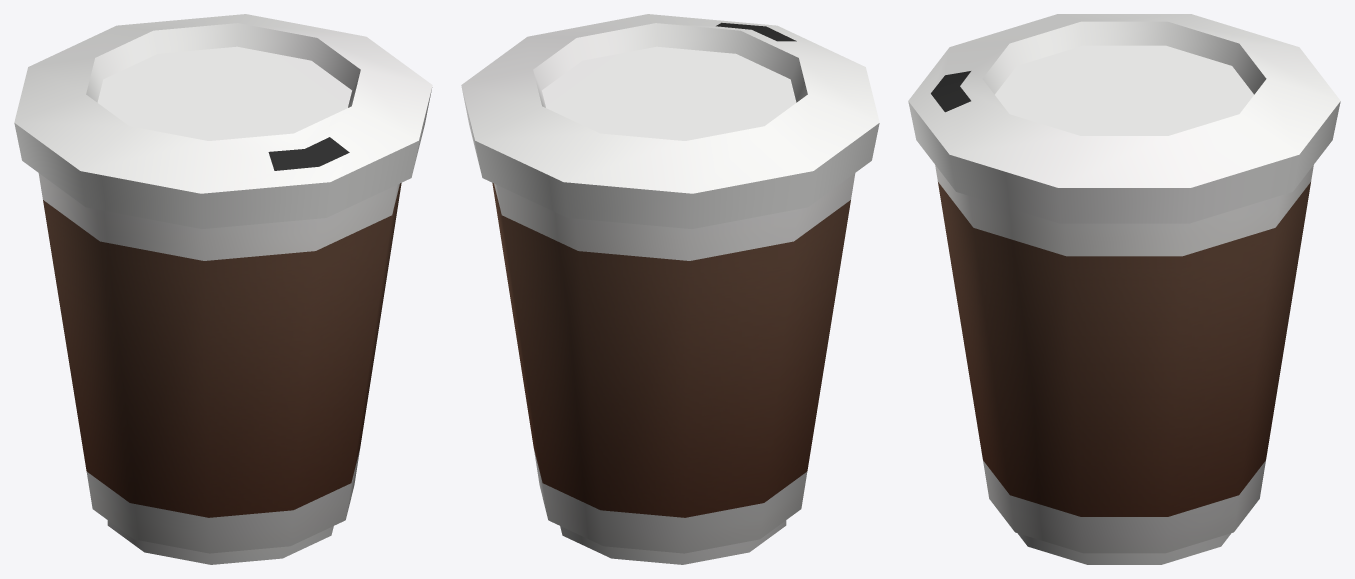
The model's file is VendingCupCoffee_Medio.fbx.
The picture shows the model from 3 angles, left to right: view 1: azimuth 30°, elevation 25°; view 2: azimuth 150°, elevation 25°; view 3: azimuth 270°, elevation 25°; orthographic projection.
Parts seen in each view (by area): view 1: VendingCupCoffee_Medio; view 2: VendingCupCoffee_Medio; view 3: VendingCupCoffee_Medio.
Part boxes in pixels (x1=…): VendingCupCoffee_Medio: x1=14, y1=14, x2=432, y2=564; VendingCupCoffee_Medio: x1=461, y1=14, x2=879, y2=564; VendingCupCoffee_Medio: x1=908, y1=14, x2=1340, y2=564.
Size of the model in its own units: 11.39 by 13.38 by 11.97.
